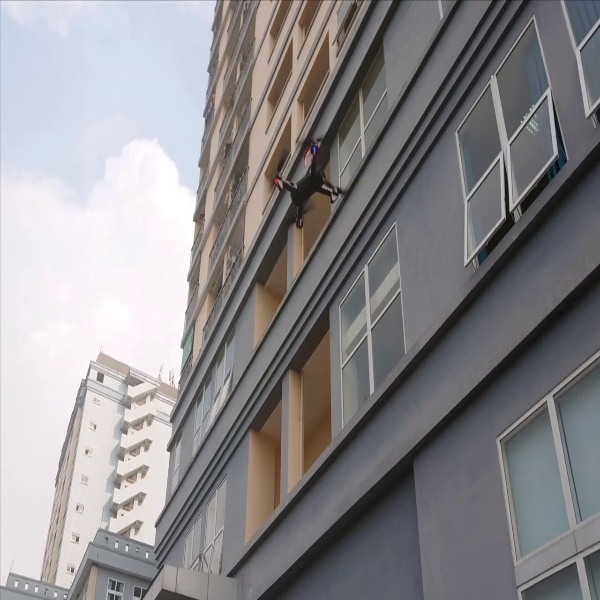drone: (265, 140, 349, 230)
